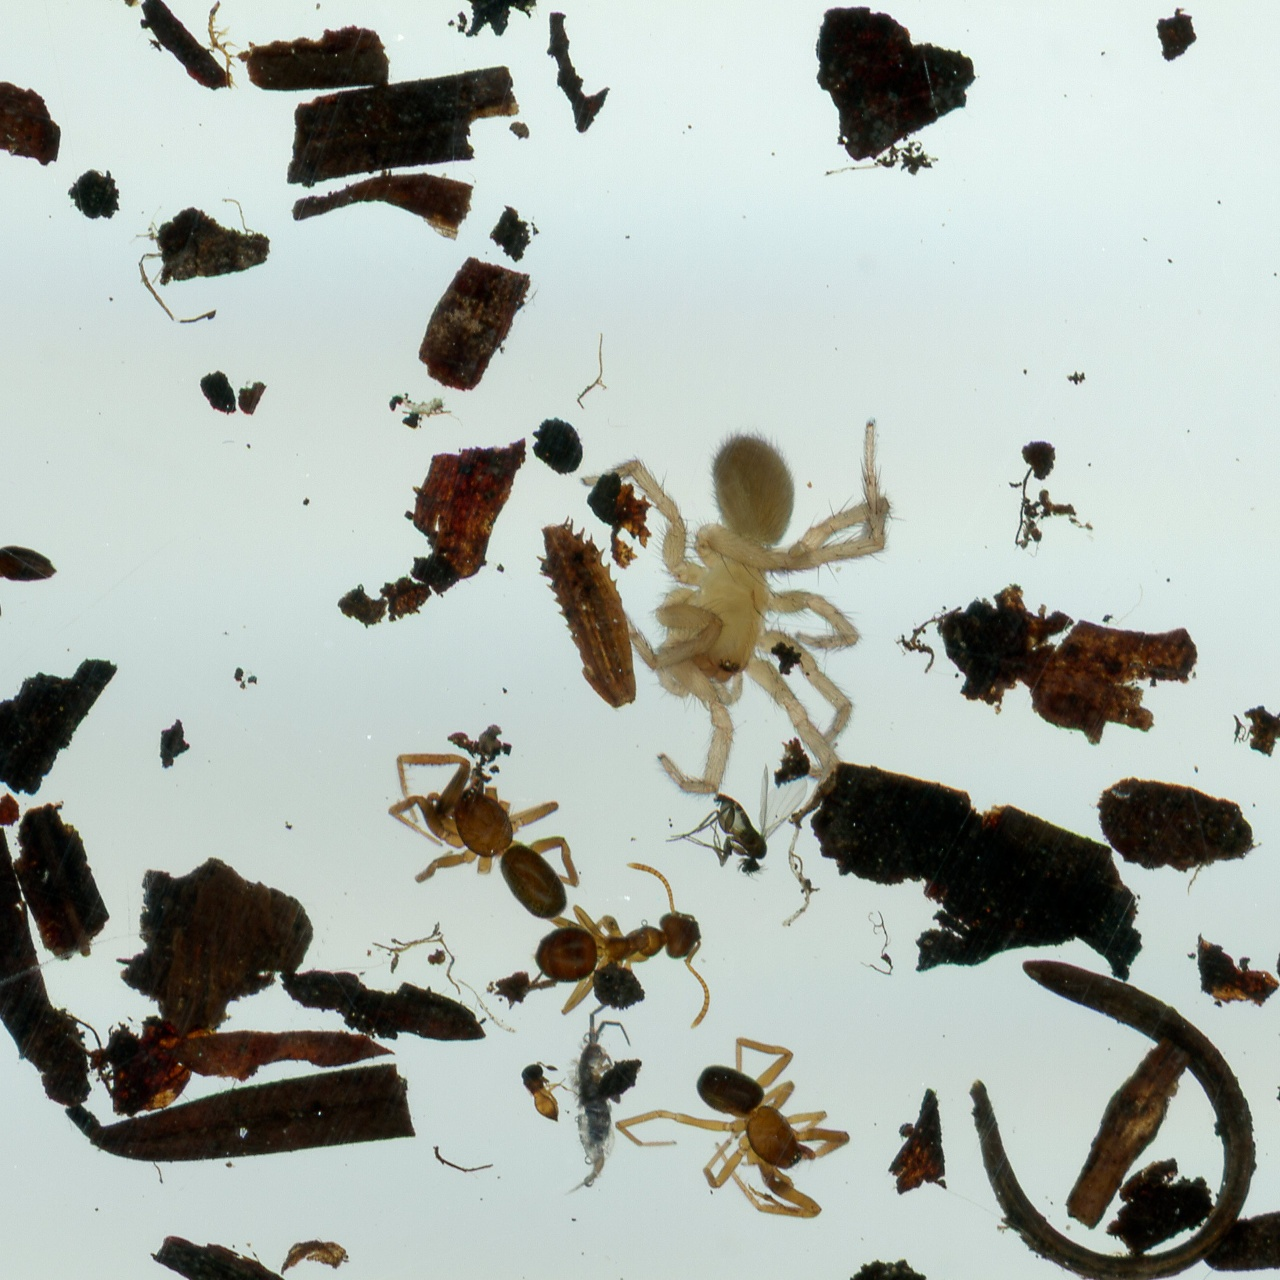arthropod: (581, 416, 890, 787), (618, 1037, 855, 1224), (388, 741, 577, 918), (532, 859, 714, 1028), (668, 765, 813, 867), (572, 999, 629, 1194), (0, 488, 56, 619), (522, 1058, 570, 1126)
